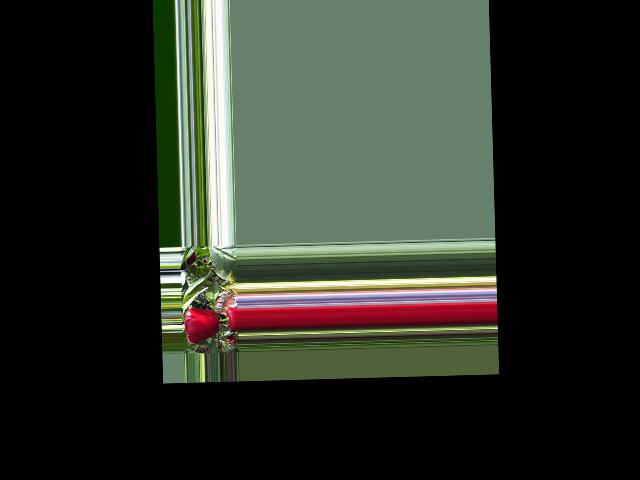bell_pepper: (223, 305, 239, 333)
